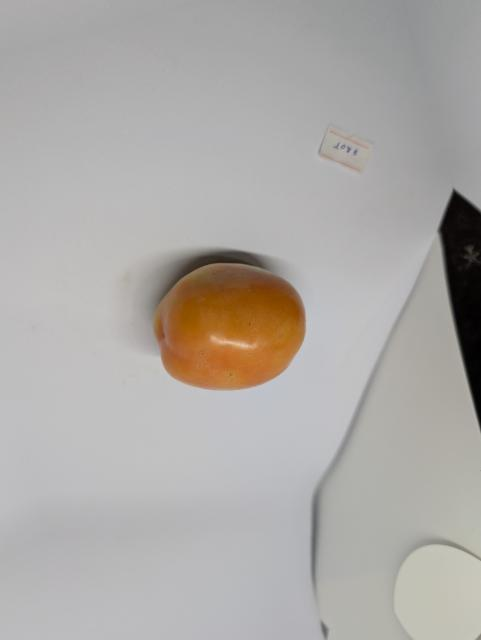turning: (146, 257, 316, 403)
